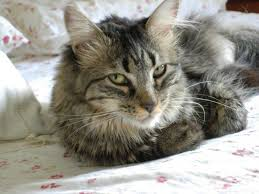Gato: (59, 1, 215, 161)
